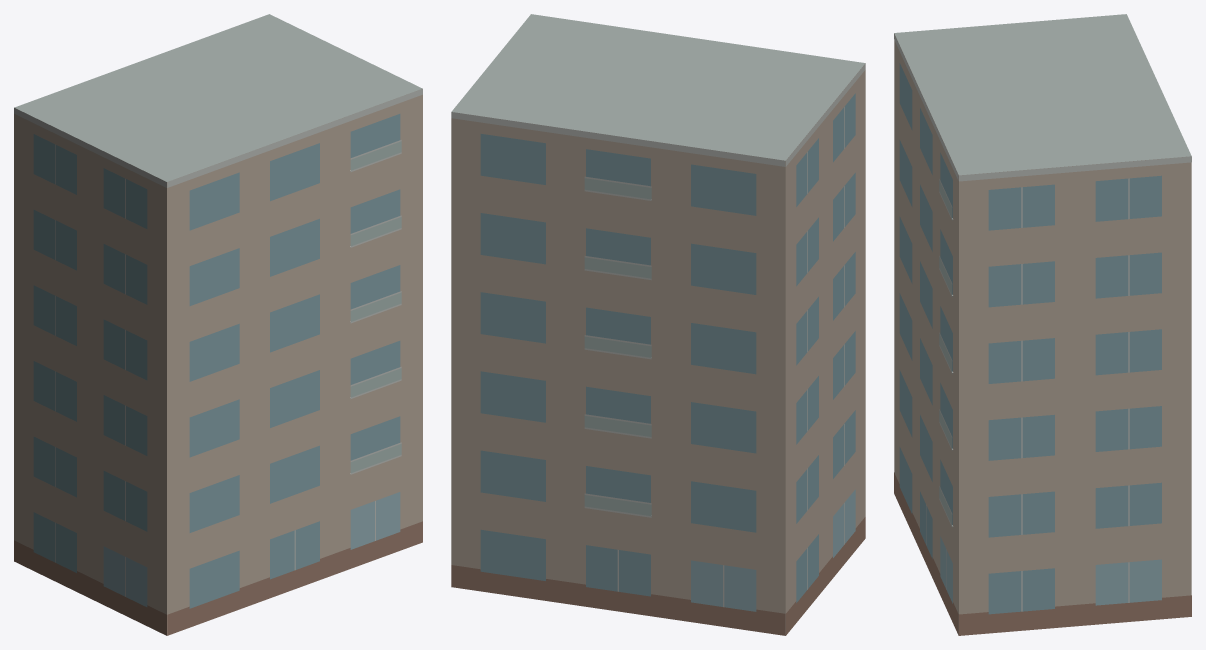
File: survey-upis-32696864.glb
3 renders of one model, left to right at view 1: azimuth 30°, elevation 25°; view 2: azimuth 150°, elevation 25°; view 3: azimuth 270°, elevation 25°, orthographic. The views are drawn at different scales.
Parts seen in each view (by area): view 1: survey-upis-32696864.tmp; view 2: survey-upis-32696864.tmp; view 3: survey-upis-32696864.tmp.
Boxes of the visible parts, x1,y1,x2,y2 form: survey-upis-32696864.tmp: [14, 14, 422, 635]; survey-upis-32696864.tmp: [451, 14, 865, 635]; survey-upis-32696864.tmp: [894, 14, 1191, 635].
Size of the model in its own units: 13.84 by 18.4 by 10.79.
